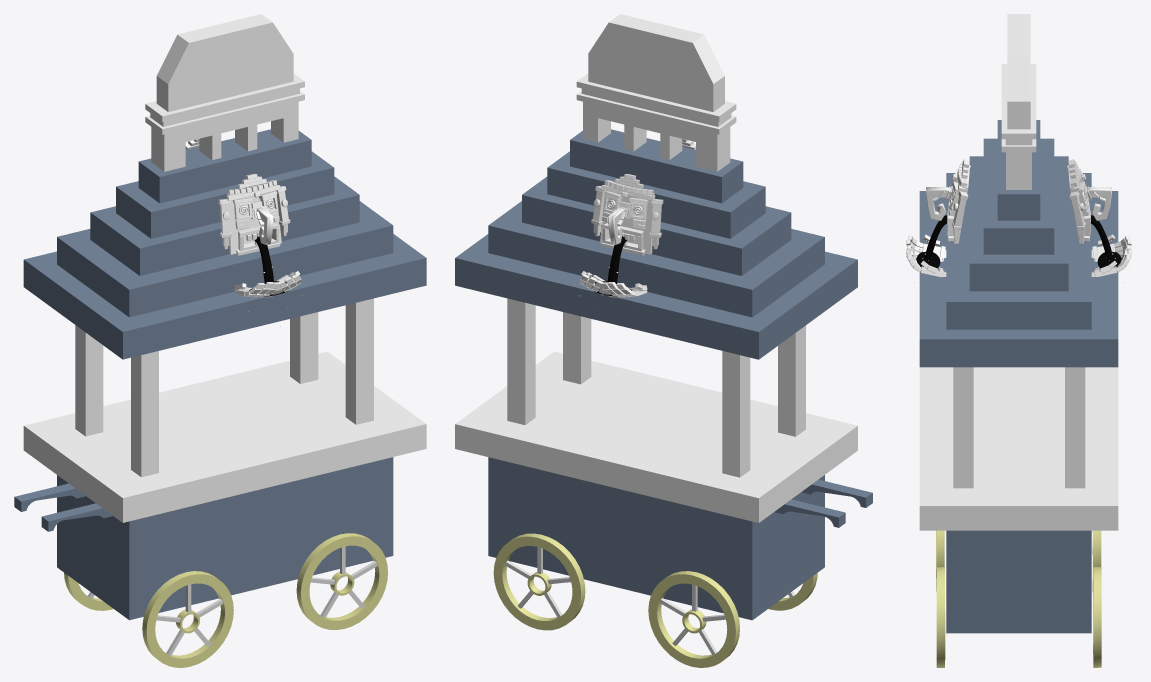
The picture shows the model from 3 angles, left to right: view 1: azimuth 30°, elevation 25°; view 2: azimuth 150°, elevation 25°; view 3: azimuth 270°, elevation 25°; orthographic projection.
Visible parts, largest first — view 1: Boolean 1, Boolean, Polygon, Palma 1, Cube.2 0; view 2: Boolean 1, Boolean, Polygon, Palma 1, Cube.2 0; view 3: Boolean 1, Boolean, Palma 1, Polygon, Chorro 1.
Part boxes in pixels (box(x1,y1,x2,y2)): Boolean 1: box(14, 129, 426, 620); Boolean: box(23, 14, 426, 522); Polygon: box(64, 533, 387, 667); Palma 1: box(185, 139, 301, 297); Cube.2 0: box(88, 546, 377, 655); Boolean 1: box(455, 129, 872, 620); Boolean: box(455, 14, 857, 522); Polygon: box(493, 533, 817, 667); Palma 1: box(580, 139, 695, 297); Cube.2 0: box(505, 547, 794, 654); Boolean 1: box(919, 120, 1118, 633); Boolean: box(919, 14, 1118, 530); Palma 1: box(906, 159, 1131, 277); Polygon: box(936, 530, 1101, 667); Chorro 1: box(916, 215, 1121, 268).
Size of the model in its own units: 2.64 by 4.27 by 1.54.
